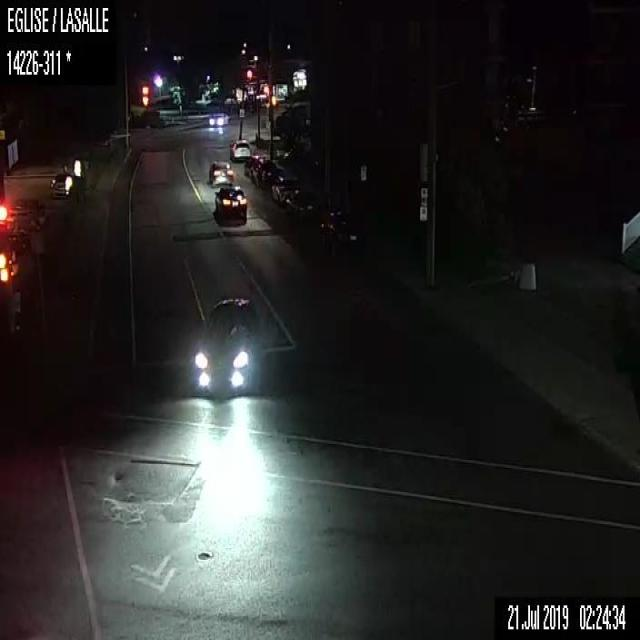vehicle: (188, 296, 262, 395), (318, 207, 368, 256), (284, 184, 325, 220), (213, 184, 249, 222), (271, 175, 302, 205), (254, 161, 281, 190), (206, 158, 232, 188), (50, 169, 71, 196), (230, 137, 250, 158), (207, 109, 230, 127)
